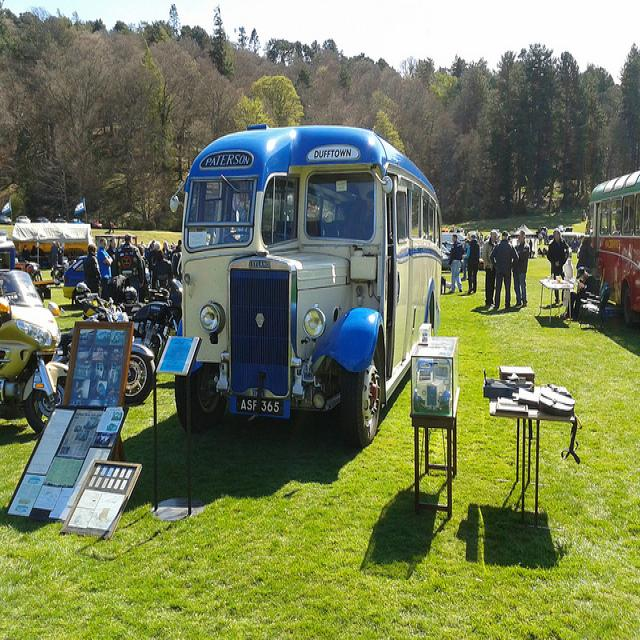motor: (0, 264, 68, 439), (128, 279, 181, 360), (124, 343, 155, 401)
